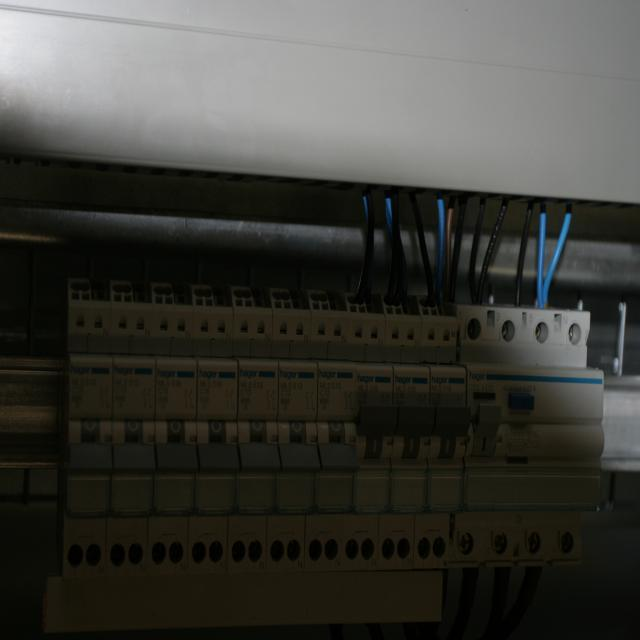FI_Sicherungskombi: (449, 303, 604, 568)
Sicherungen_230V: (187, 306, 239, 574), (302, 311, 355, 571), (376, 315, 430, 570), (226, 307, 278, 570), (147, 302, 196, 579), (107, 301, 155, 580), (415, 317, 468, 569), (267, 309, 318, 570), (344, 313, 394, 567), (70, 285, 112, 584)
